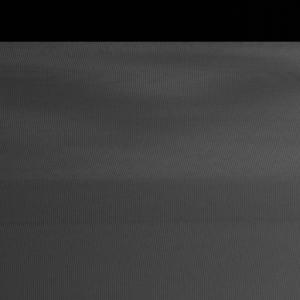Wrinkle: (1, 50, 300, 145), (1, 160, 300, 234)
